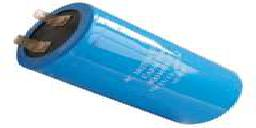Electrolytic-Capacitor: (13, 1, 245, 125)
